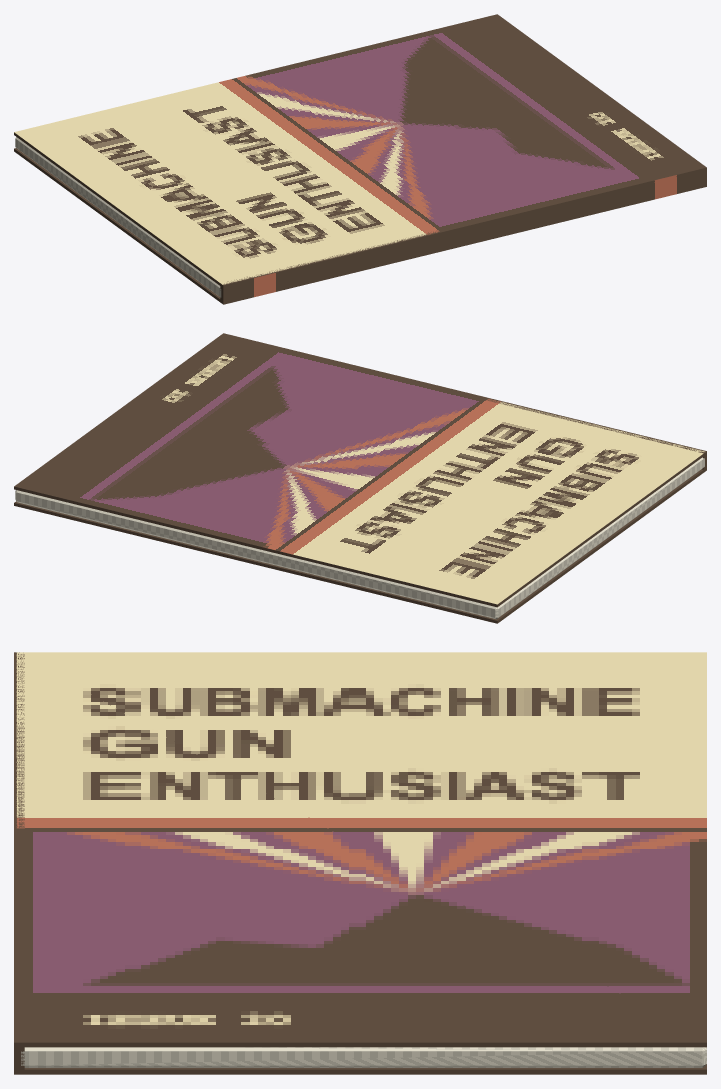
File: mag_smg.glb
3 views of the same model, one above another, from view 1: azimuth 30°, elevation 25°; view 2: azimuth 150°, elevation 25°; view 3: azimuth 270°, elevation 25° (orthographic). The views are drawn at different scales.
Visible parts, largest first — view 1: block_front, block_spine, block_pages, block_back; view 2: block_front, block_pages, block_back, block_spine; view 3: block_front, block_pages, block_back, block_spine.
Boxes of the visible parts, bbox=[...] form: block_front: bbox=[14, 14, 705, 287]; block_spine: bbox=[220, 167, 706, 304]; block_pages: bbox=[15, 137, 221, 297]; block_back: bbox=[14, 148, 222, 303]; block_front: bbox=[14, 334, 706, 607]; block_pages: bbox=[15, 457, 704, 619]; block_back: bbox=[14, 468, 706, 623]; block_spine: bbox=[220, 333, 706, 470]; block_front: bbox=[16, 652, 706, 1047]; block_pages: bbox=[21, 1047, 706, 1067]; block_back: bbox=[16, 1064, 706, 1074]; block_spine: bbox=[14, 652, 24, 1074].
Size of the model in its own units: 0.2154 by 0.00821 by 0.1617.
Materials: 1 (1 with a texture image).
